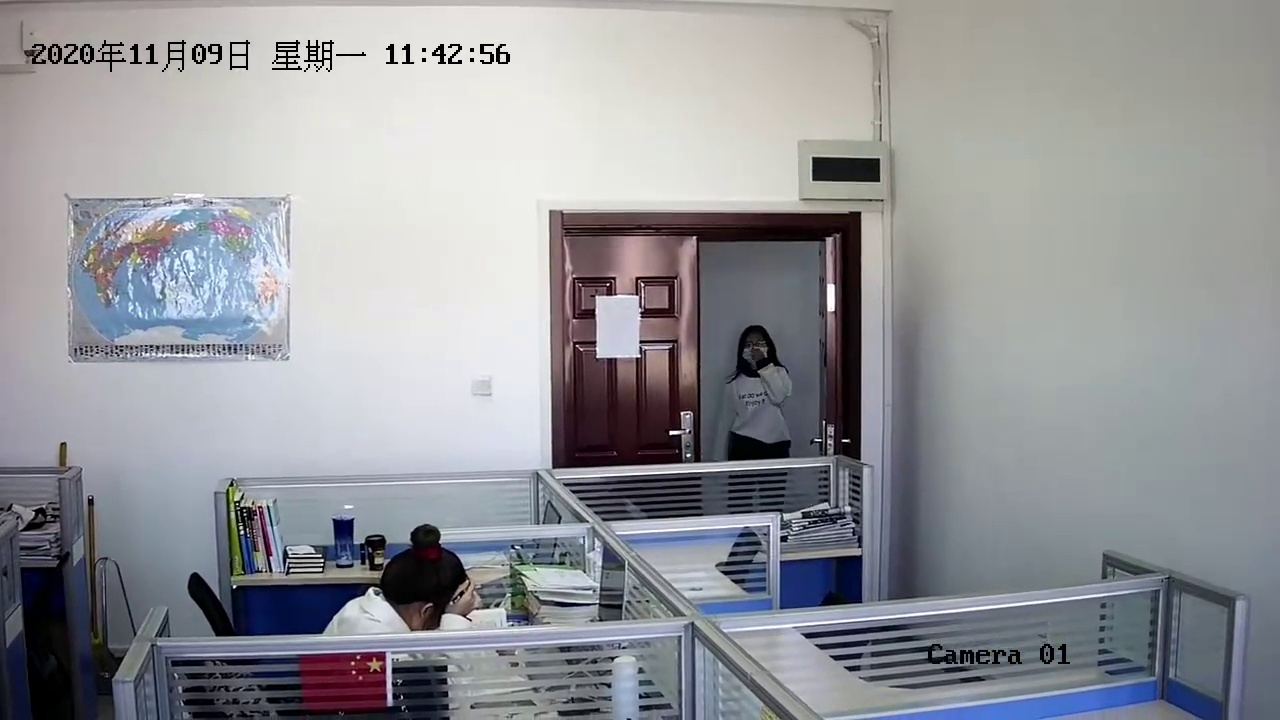mask: (735, 324, 775, 371)
